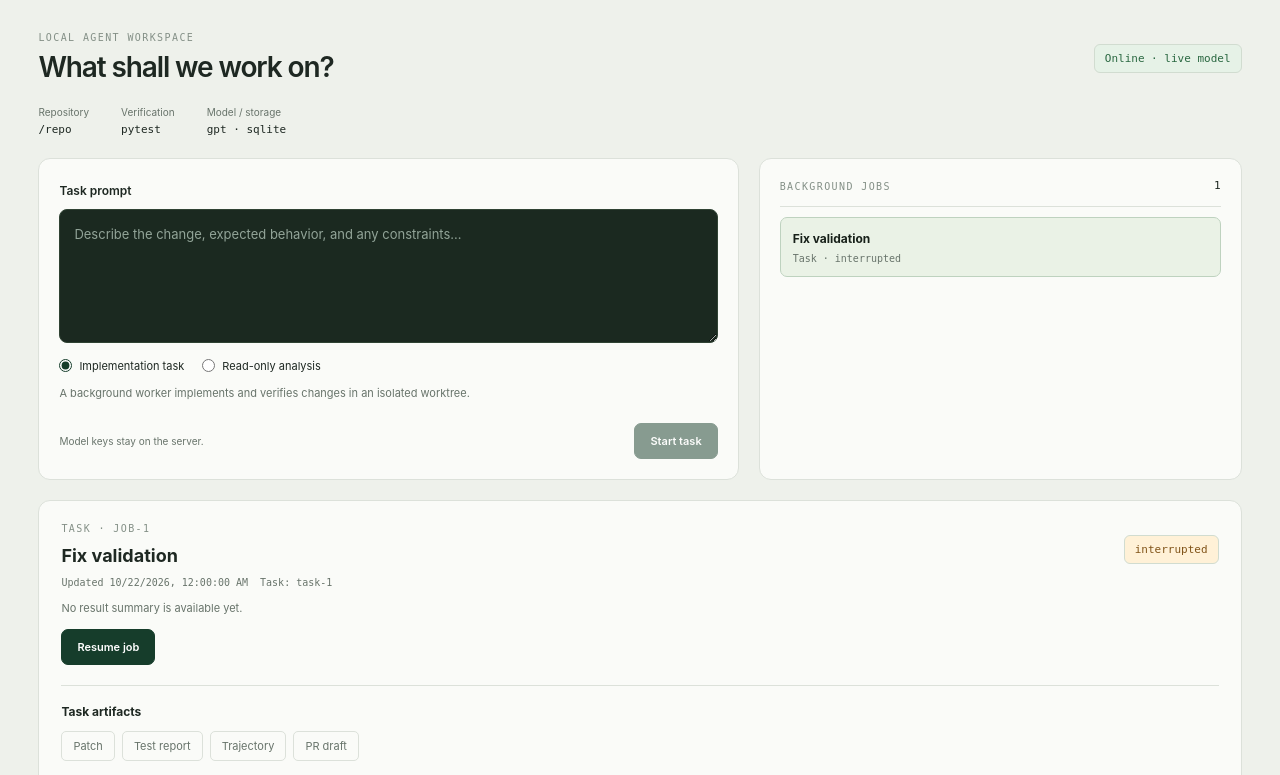
Test case: resumes an interrupted task and renders artifact content with its truncation notice
The width and height of the screenshot is (1280, 775).
Click the button "Resume job". click: coordinates (108, 647)
box: x1=61 y1=629 x2=155 y2=665
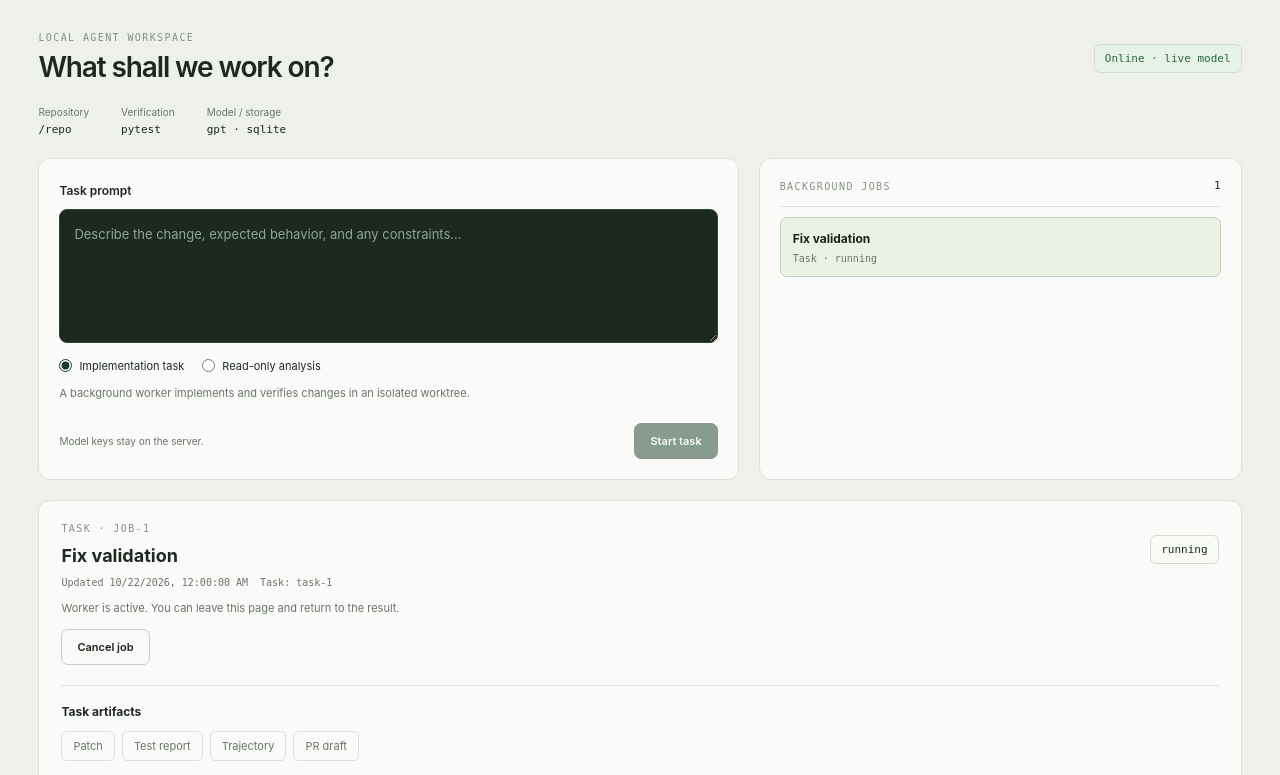
Click the button "Patch". click: coordinates (88, 746)
box: x1=61 y1=731 x2=115 y2=761
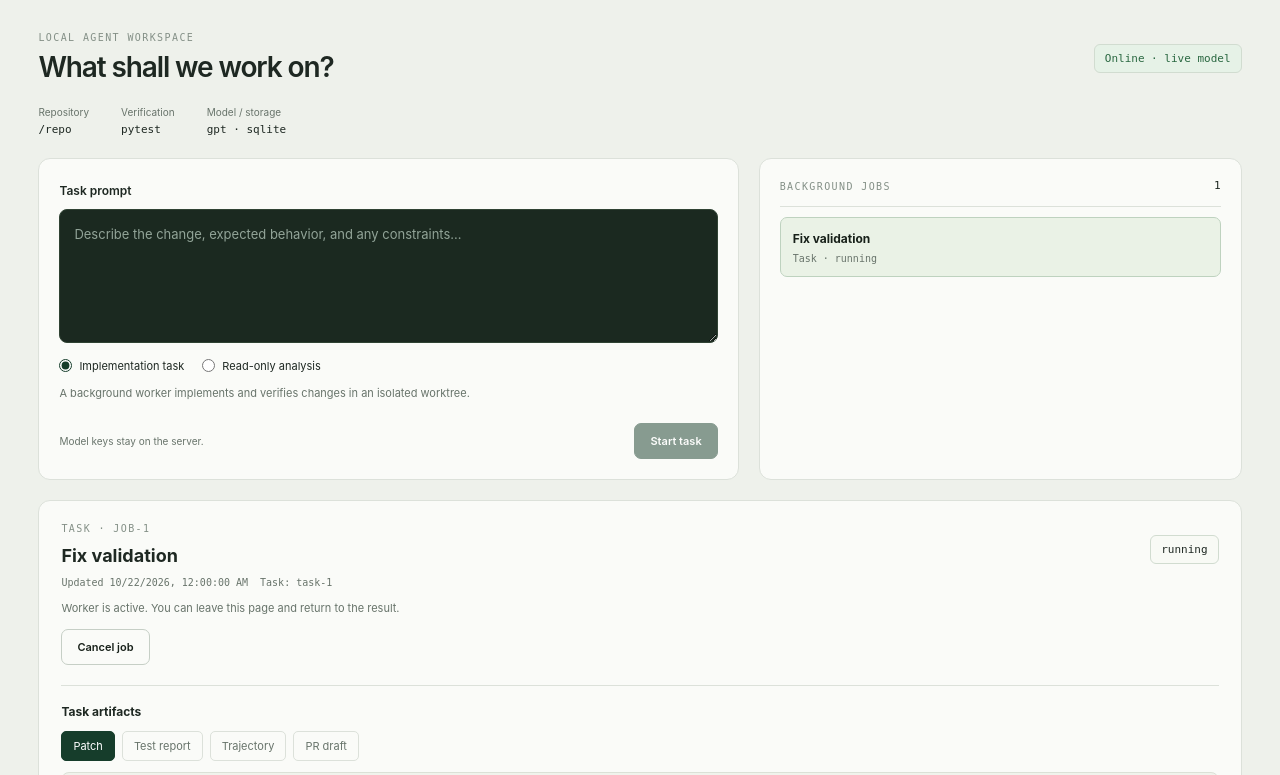
Click the button "Test report". click: coordinates (162, 746)
box: x1=122 y1=731 x2=203 y2=761
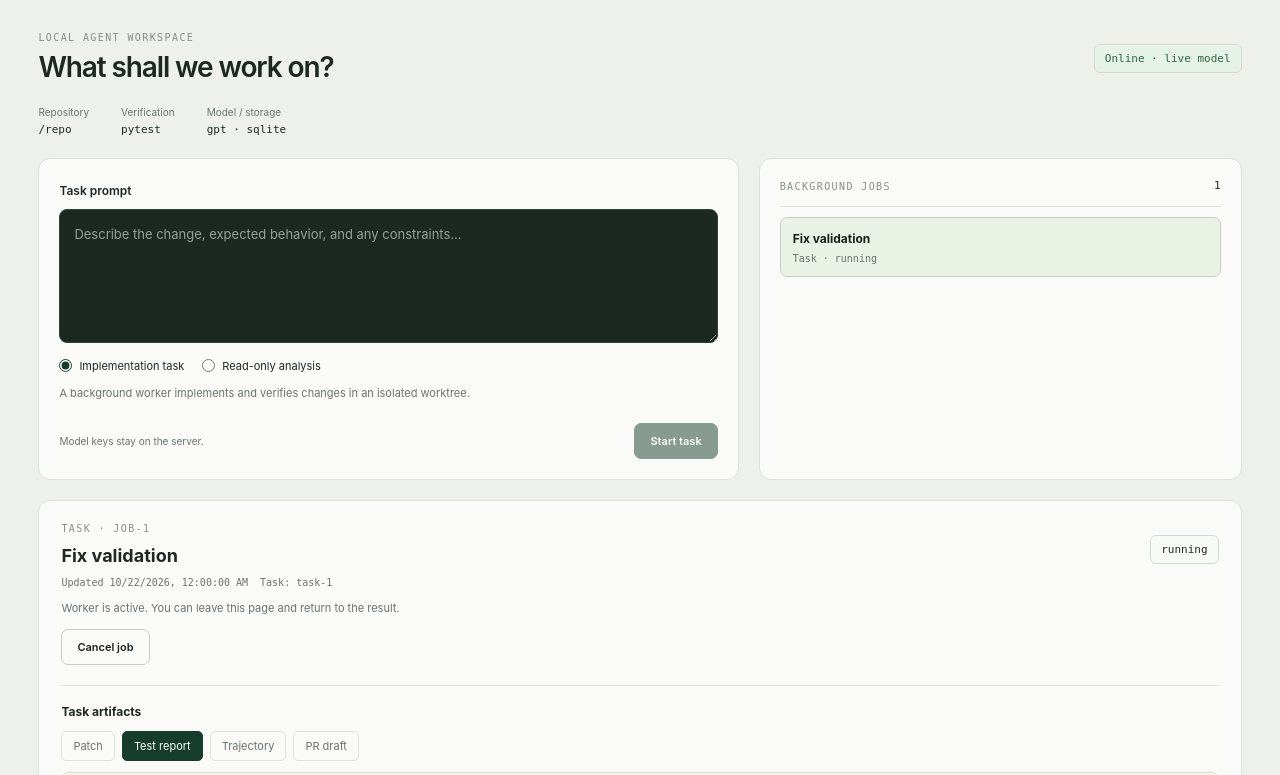
Click the button "Test report". click: coordinates (162, 746)
box: x1=122 y1=731 x2=203 y2=761
(page scrolled)
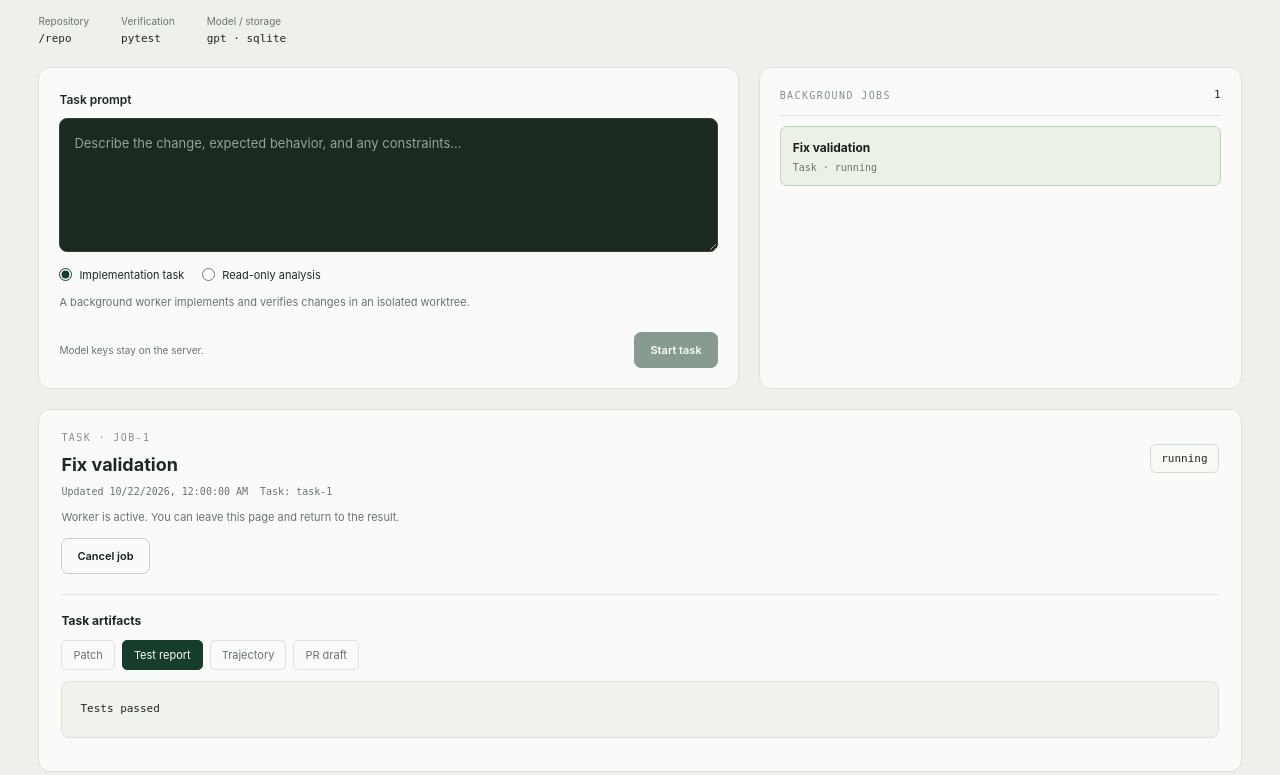
Expected: the text "Tests passed" is shown, x1=61 y1=681 x2=1219 y2=738
